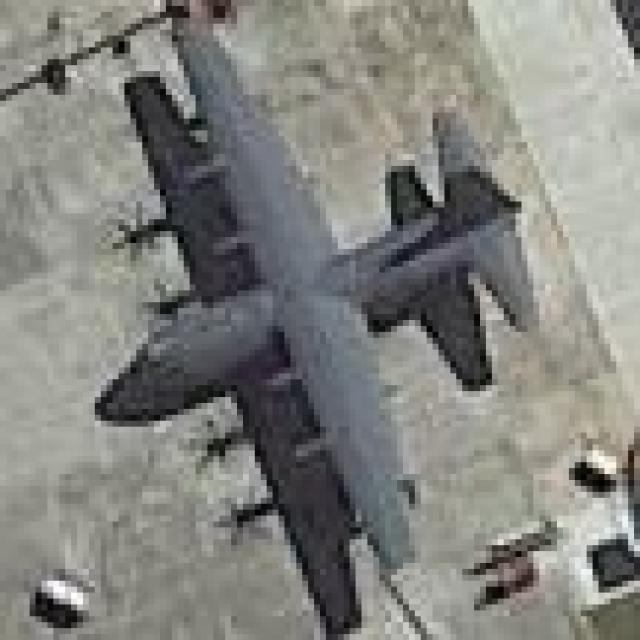C-130_TopDown: (91, 8, 544, 638)
